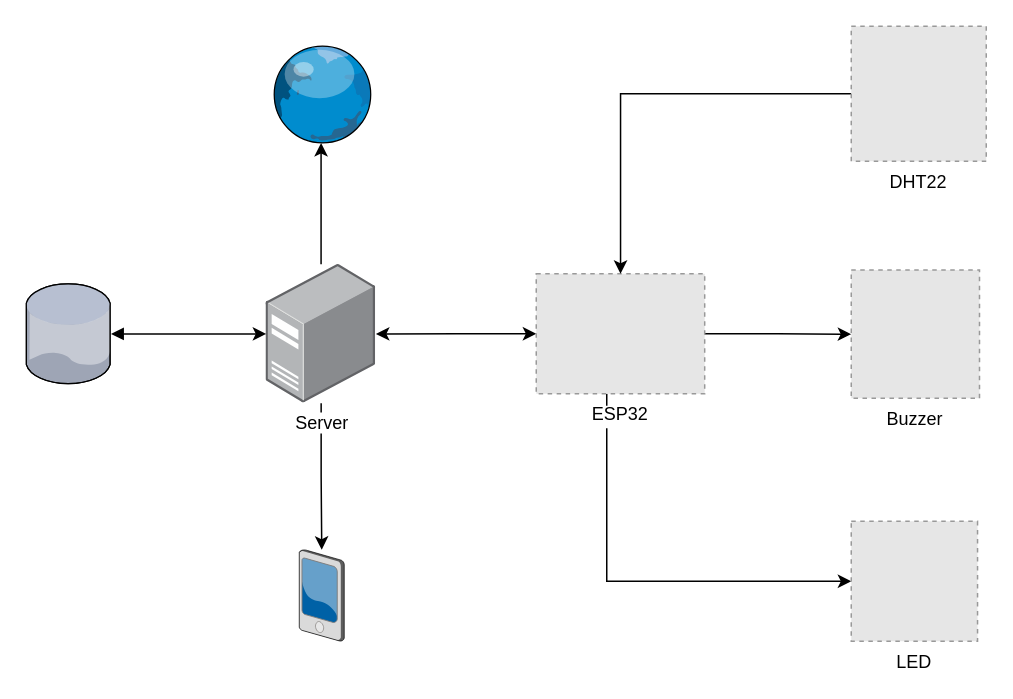
This 1013x699 diagram has some shape labels left out. Grey dashed boxes stand in for pictures. The centre of each missing label's shape, as x and y in pixels:
Database: the point at 68,333
Mobile App: the point at 321,594
Web: the point at 320,93
